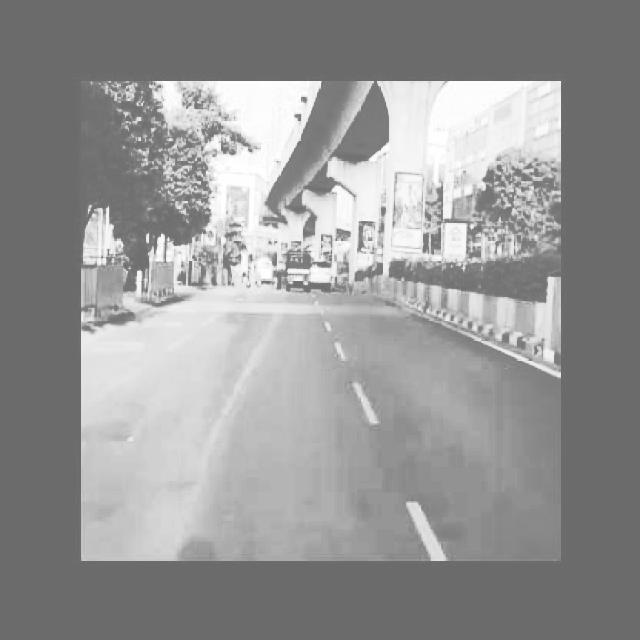Car: (312, 252, 338, 292)
